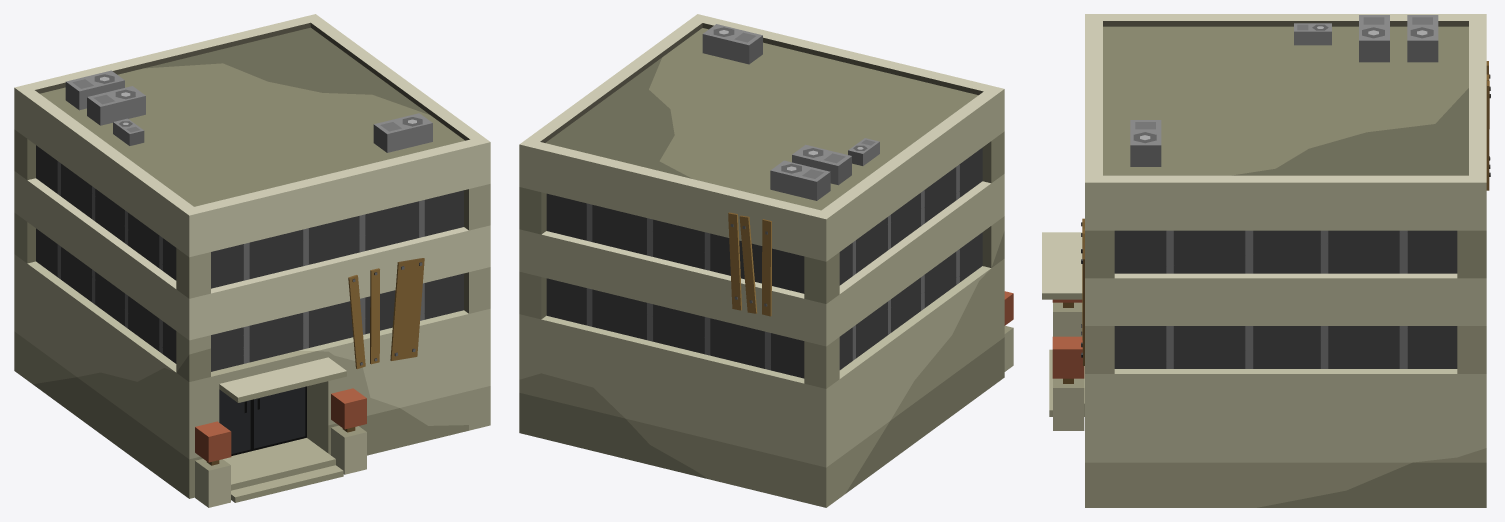
Rendered from SA_Bld_OfficeWhite_01.gltf.
3 views of the same model, side by side, from view 1: azimuth 30°, elevation 25°; view 2: azimuth 150°, elevation 25°; view 3: azimuth 270°, elevation 25° (orthographic). The views are drawn at different scales.
Parts seen in each view (by area): view 1: SA_Bld_OfficeWhite_01; view 2: SA_Bld_OfficeWhite_01; view 3: SA_Bld_OfficeWhite_01.
Part boxes in pixels (x1,y1,x2,y2): SA_Bld_OfficeWhite_01: (14,14,490,507); SA_Bld_OfficeWhite_01: (519,14,1013,507); SA_Bld_OfficeWhite_01: (1042,14,1490,507).
Size of the model in its own units: 13.62 by 12.84 by 15.31.
Materials: 1 (1 with a texture image).
